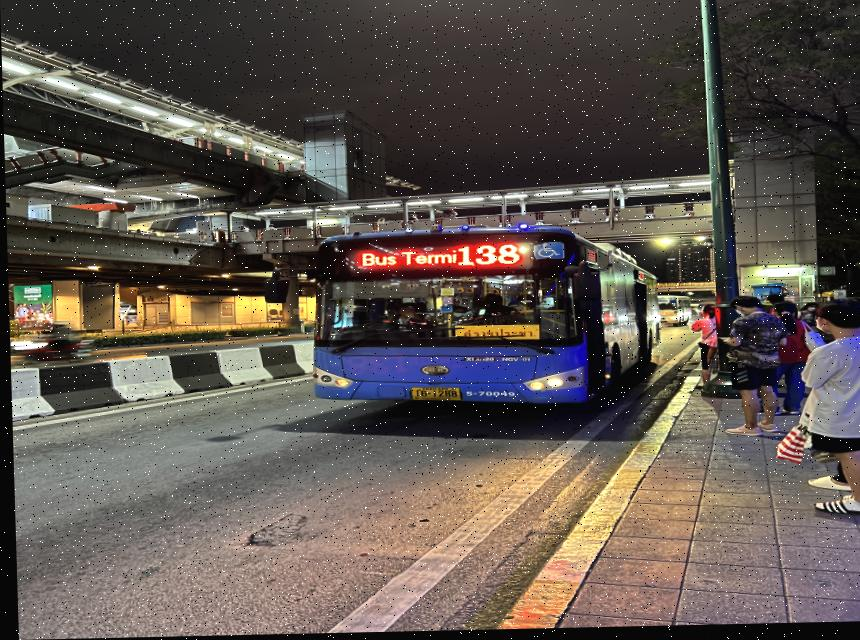BMTA-bus: (308, 229, 657, 410)
Bus Line Number: (456, 244, 526, 270)
Bus Side Number: (458, 390, 520, 402)
Destination Sign: (453, 324, 538, 343)
